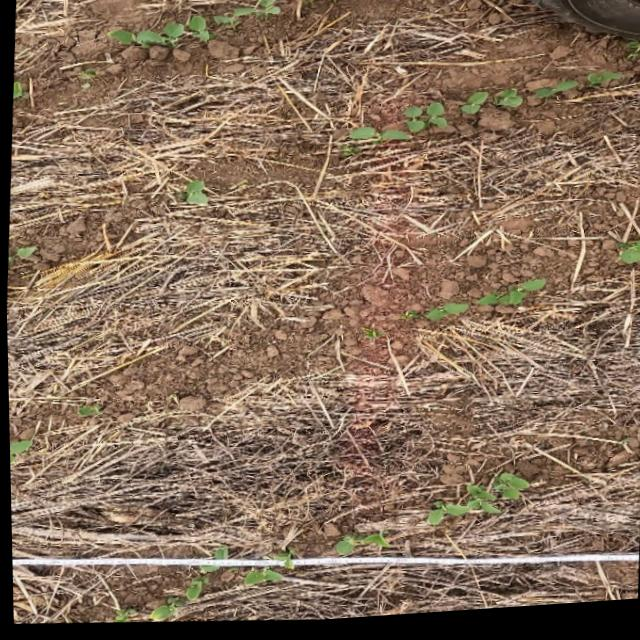soy_plant: (108, 0, 280, 49), (425, 478, 526, 530), (147, 569, 215, 621), (475, 286, 544, 312), (458, 94, 523, 120), (403, 107, 446, 138), (333, 535, 388, 559), (399, 308, 467, 326), (349, 130, 408, 146), (527, 88, 579, 105), (241, 570, 280, 589), (617, 246, 640, 272), (8, 441, 30, 463), (186, 182, 206, 206), (586, 80, 620, 93), (112, 610, 133, 624), (13, 81, 29, 99), (76, 406, 100, 416), (15, 247, 36, 258), (275, 557, 289, 571), (362, 334, 380, 343), (212, 551, 225, 560)
